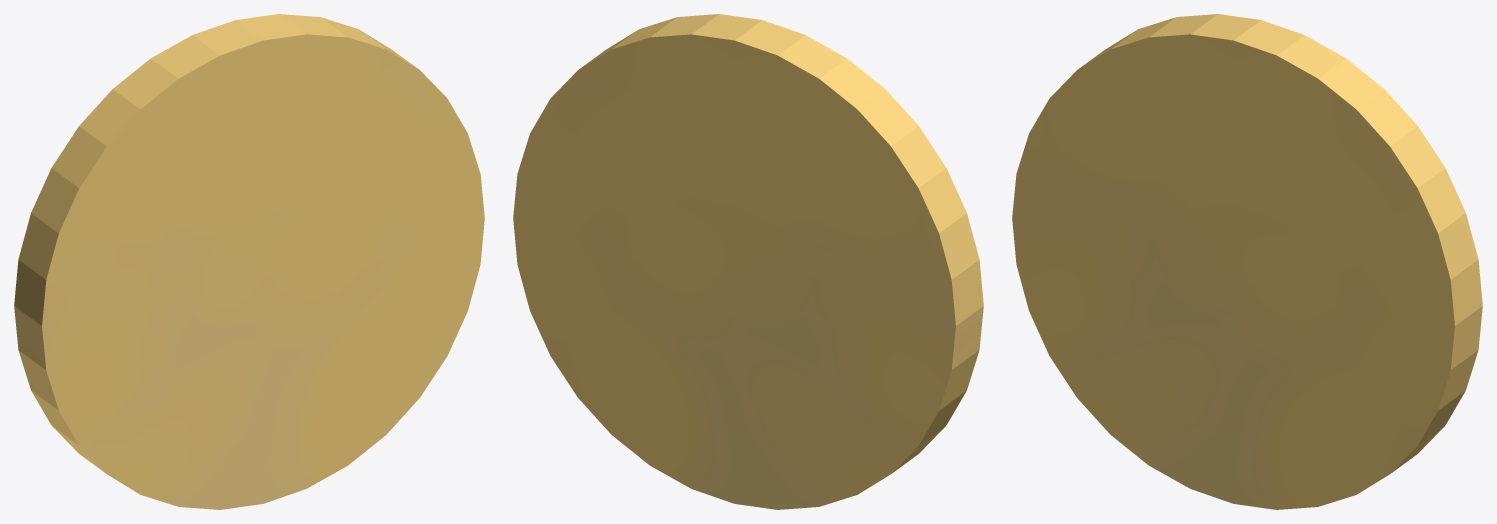
Rendered from Coin.fbx.
The picture shows the model from 3 angles, left to right: view 1: azimuth 30°, elevation 25°; view 2: azimuth 150°, elevation 25°; view 3: azimuth 330°, elevation 25°; orthographic projection.
Visible parts, largest first — view 1: Coin_Low; view 2: Coin_Low; view 3: Coin_Low.
Boxes of the visible parts, box(x1,y1,x2,y2) form: Coin_Low: box(14, 14, 484, 509); Coin_Low: box(513, 14, 983, 509); Coin_Low: box(1012, 14, 1482, 509).
Bounding box in the file's own units: 200 × 200 × 21.81.
